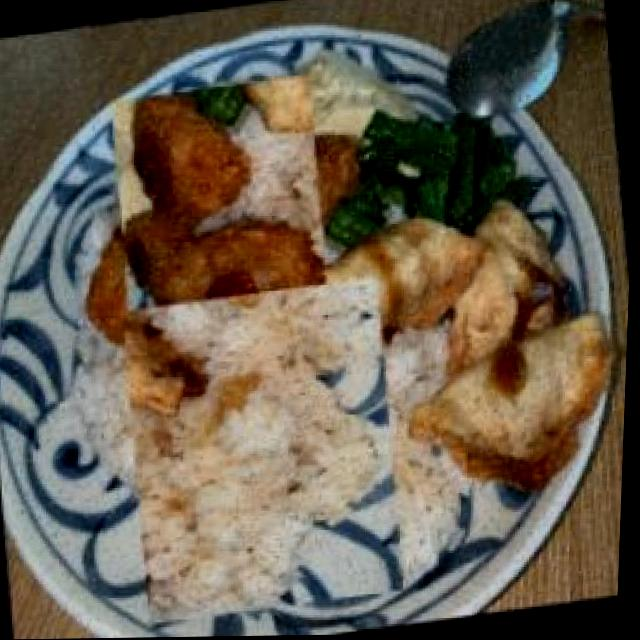rice: (102, 288, 431, 612)
triangle_hash_brown: (84, 91, 362, 364)
